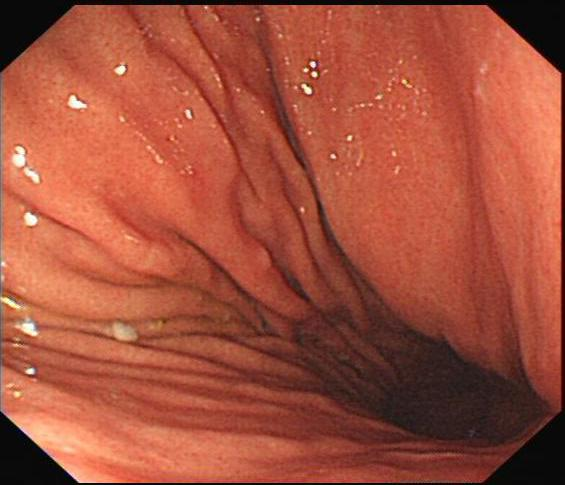Polyp: (236, 228, 293, 292)
